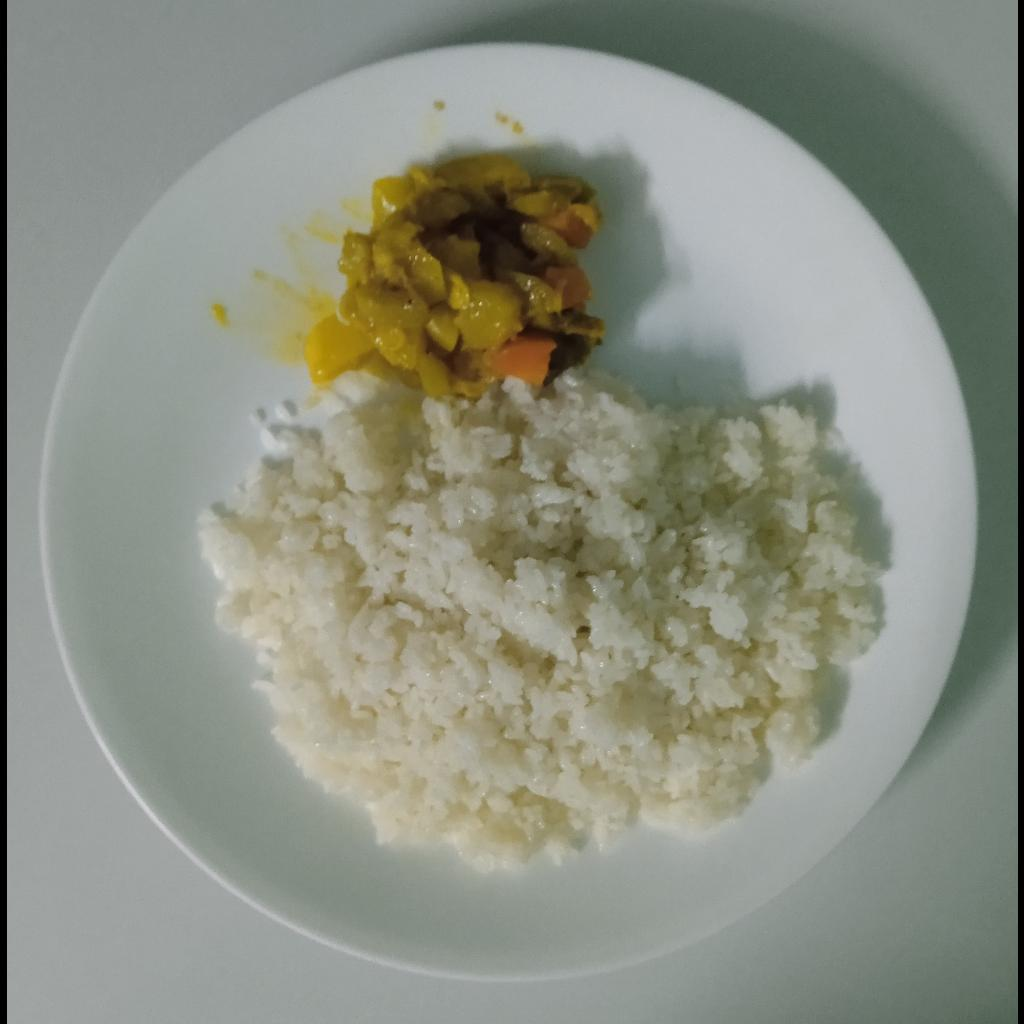rice: (199, 371, 886, 875)
vegetable: (304, 155, 607, 394)
